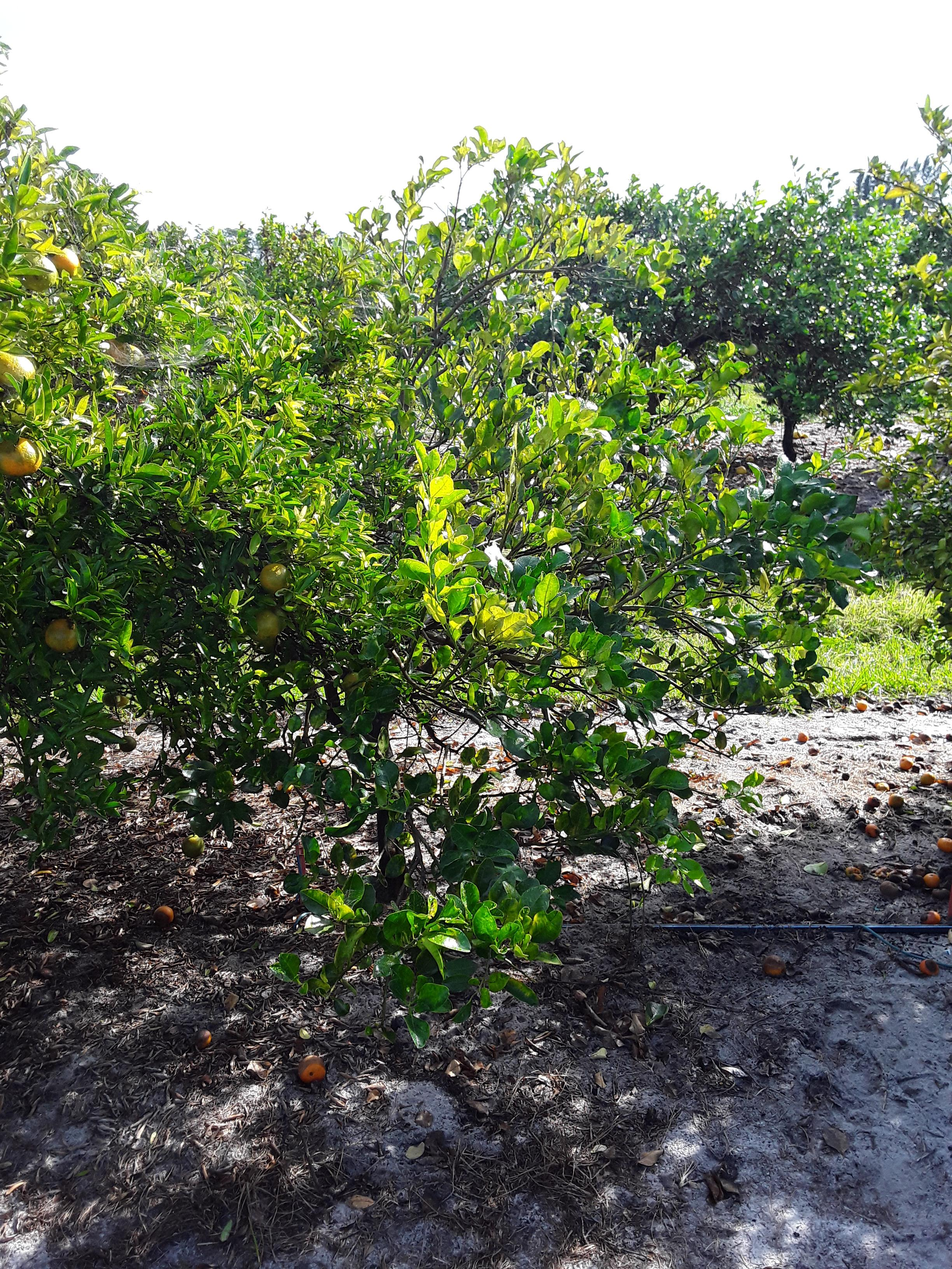fruit_on_ground: (0, 434, 43, 478), (19, 252, 61, 295), (247, 605, 285, 646), (92, 334, 134, 370), (43, 615, 80, 655), (1, 351, 38, 389), (257, 559, 292, 595), (117, 342, 152, 378), (50, 247, 83, 277), (339, 666, 370, 696), (178, 830, 209, 859), (116, 732, 140, 753), (100, 691, 122, 708), (112, 692, 132, 709), (920, 378, 939, 395), (875, 474, 892, 491), (742, 342, 759, 358)
fruit_on_tree: (294, 1051, 329, 1087), (151, 901, 177, 929), (761, 953, 788, 979), (191, 1025, 216, 1050), (917, 955, 941, 979), (877, 880, 903, 902), (920, 907, 943, 927), (862, 821, 882, 839), (922, 870, 940, 888), (935, 834, 952, 853), (886, 791, 905, 808), (843, 864, 862, 880), (917, 770, 936, 786), (898, 755, 914, 771), (873, 779, 892, 792), (315, 753, 331, 768), (864, 795, 880, 809), (796, 729, 810, 743), (854, 698, 869, 711), (938, 775, 951, 789), (711, 708, 725, 721), (918, 731, 933, 743), (906, 731, 920, 743), (734, 463, 747, 475), (807, 743, 820, 755), (881, 702, 894, 713), (793, 428, 805, 439), (936, 701, 948, 711), (916, 708, 928, 717), (943, 731, 952, 742)
